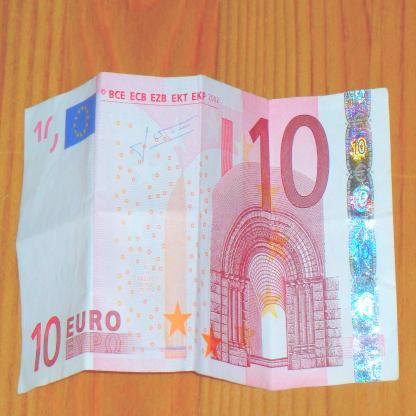euro_banknote: (14, 71, 397, 394)
